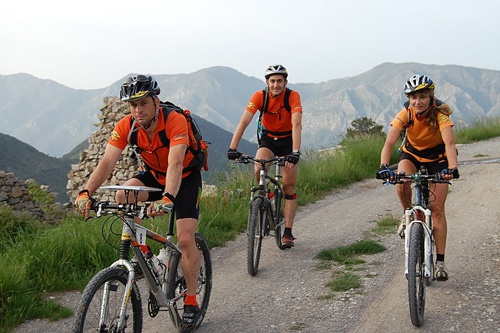helmet: (118, 74, 164, 126), (403, 72, 438, 116), (262, 63, 292, 98)
